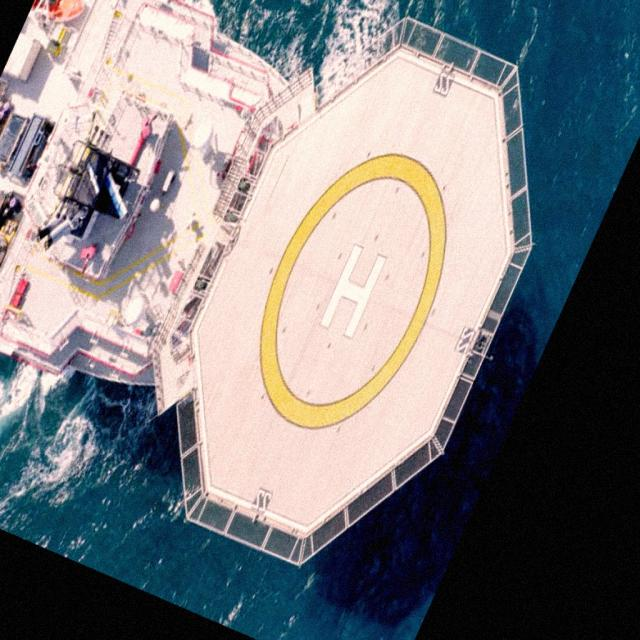helipad: (250, 150, 450, 434)
